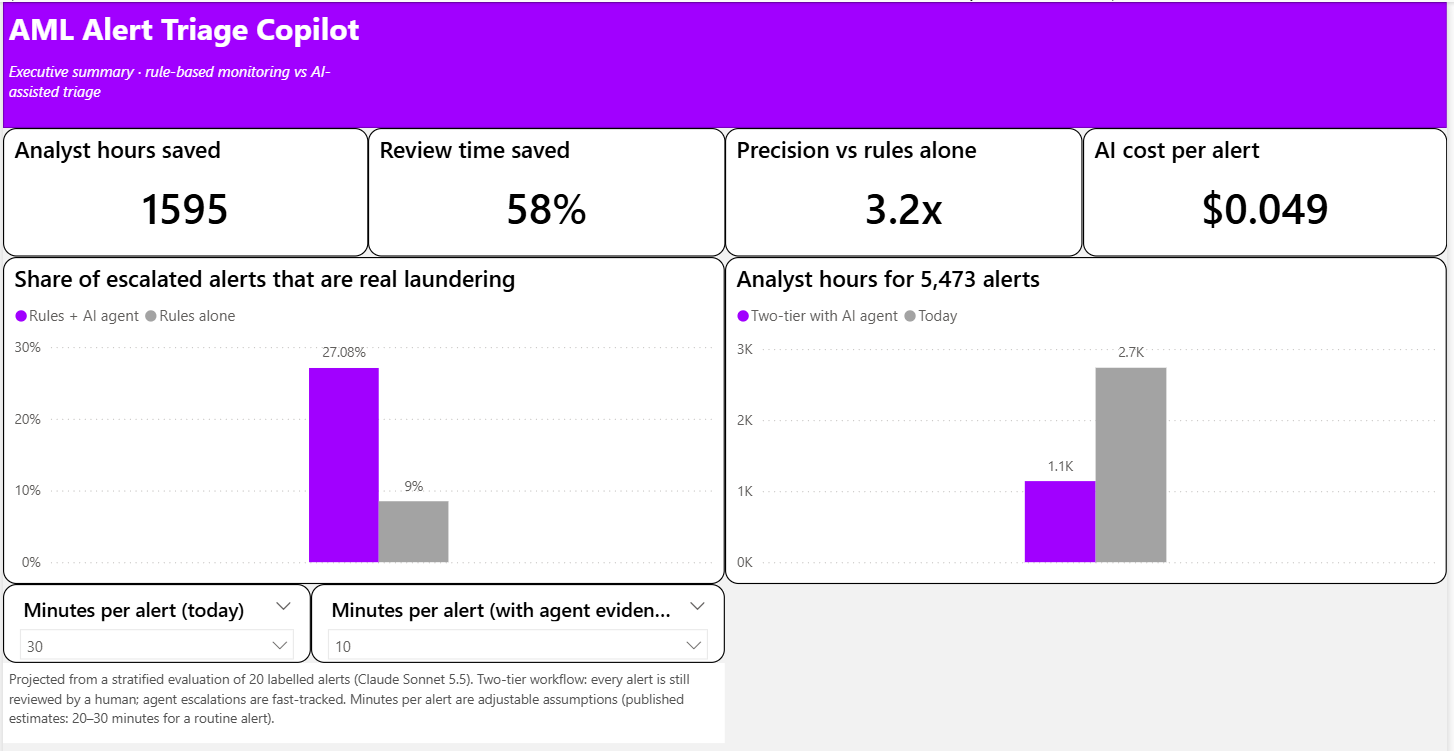

Layout of this report page (visuals, bound fields, positions):
{"tool":"powerbi","page":{"name":"Executive Summary","canvas":[1280,720],"ordinal":0},"visuals":[{"type":"slicer","fields":{"Values":["Minutes per alert.Value"]},"box":[0,516.1,273.1,70],"z":0},{"type":"slicer","fields":{"Values":["Minutes with agent.Value"]},"box":[273.1,516.1,367.1,70],"z":1000},{"type":"card","title":"Analyst hours saved","fields":{"Values":["eval_summary.Hours Saved"]},"box":[0,111.7,323.6,114.4],"z":2000},{"type":"shape","box":[0,0,1280.4,111.7],"z":3000},{"type":"textbox","box":[0,0,336.1,47.9],"z":4000},{"type":"textbox","box":[0,47.9,336.1,47],"z":5000},{"type":"card","title":"Review time saved","fields":{"Values":["eval_summary.Hours Saved %"]},"box":[323.6,111.7,316.6,114.4],"z":6000},{"type":"card","title":"Precision vs rules alone","fields":{"Values":["eval_summary.Precision Lift"]},"box":[640.2,111.7,316.6,114.4],"z":7000},{"type":"card","title":"AI cost per alert","fields":{"Values":["eval_summary.Cost per Alert"]},"box":[957.6,111.7,322.8,114.4],"z":8000},{"type":"clusteredColumnChart","title":"Share of escalated alerts that are real laundering","fields":{"Y":["eval_summary.Agent Precision","eval_summary.Rules Precision"]},"box":[0,226.1,640.2,290],"z":9000},{"type":"clusteredColumnChart","title":"Analyst hours for 5,473 alerts","fields":{"Y":["eval_summary.Hours Two Tier","eval_summary.Hours Today"]},"box":[640.2,226.1,640.2,290],"z":10000},{"type":"textbox","box":[0,586.1,640.2,70.9],"z":11000}]}

Visuals, with their boxes on the page's 1280x720 design canvas (x1, y1, x2, y2). These are canvas units, not pixel positions in the 1454x751 screenshot, which may show the page scaled, cropped or inside an application window:
slicer - Minutes per alert.Value: (0, 516, 273, 586)
slicer - Minutes with agent.Value: (273, 516, 640, 586)
"Analyst hours saved" card: (0, 112, 324, 226)
shape: (0, 0, 1280, 112)
textbox: (0, 0, 336, 48)
textbox: (0, 48, 336, 95)
"Review time saved" card: (324, 112, 640, 226)
"Precision vs rules alone" card: (640, 112, 957, 226)
"AI cost per alert" card: (958, 112, 1280, 226)
"Share of escalated alerts that are real laundering" clusteredColumnChart: (0, 226, 640, 516)
"Analyst hours for 5,473 alerts" clusteredColumnChart: (640, 226, 1280, 516)
textbox: (0, 586, 640, 657)
